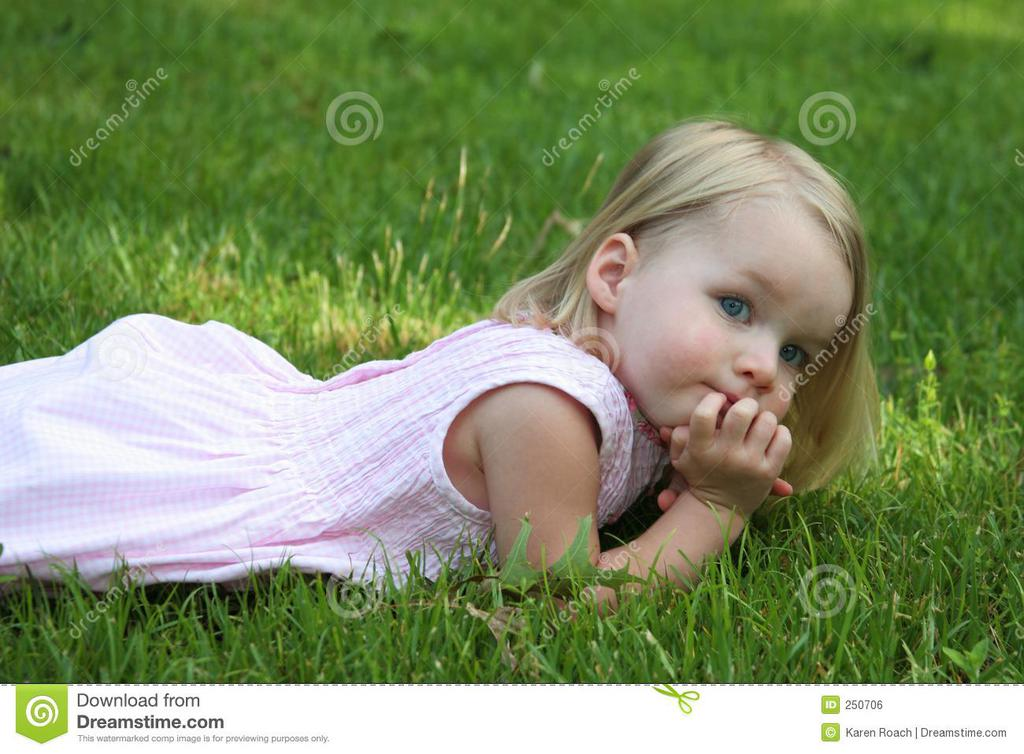child: (1, 106, 878, 634)
